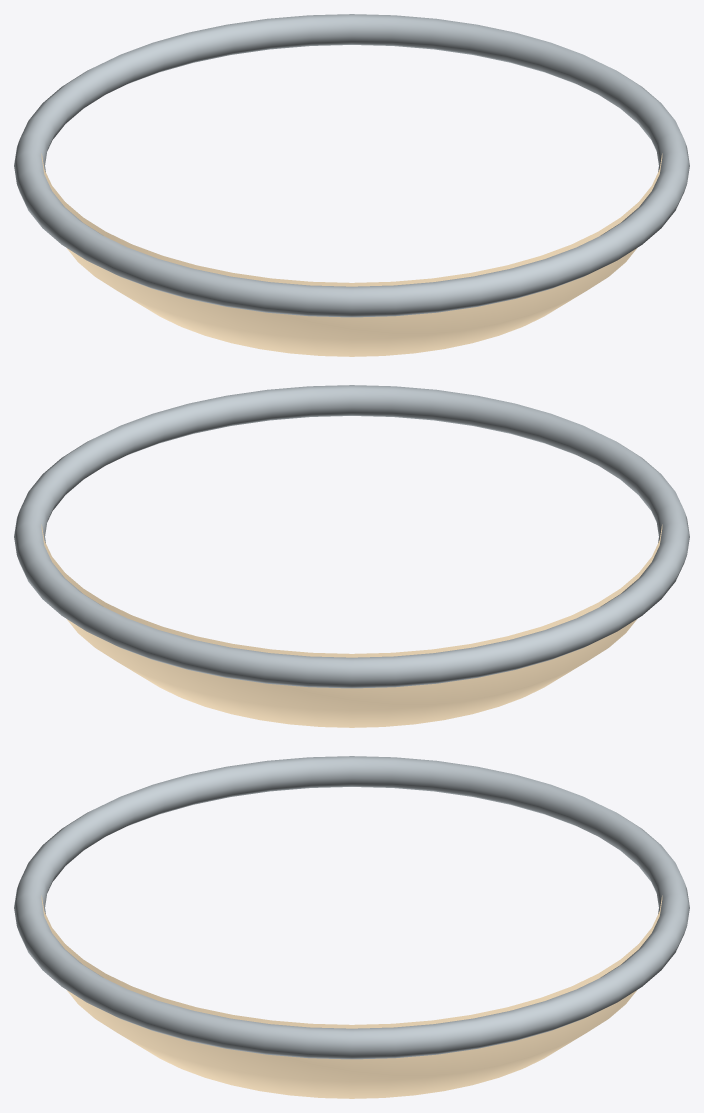
The model's file is SM_CeilingLight.glb.
The picture shows the model from 3 angles, top to bottom: view 1: azimuth 30°, elevation 25°; view 2: azimuth 150°, elevation 25°; view 3: azimuth 270°, elevation 25°; orthographic projection.
Parts seen in each view (by area): view 1: SM_CeilingLight; view 2: SM_CeilingLight; view 3: SM_CeilingLight.
Part boxes in pixels (x1,y1,x2,y2): SM_CeilingLight: [14, 14, 689, 356]; SM_CeilingLight: [14, 385, 689, 727]; SM_CeilingLight: [14, 756, 689, 1098].
Size of the model in its own units: 0.392 by 0.085 by 0.392.
2 materials, 2 textured.
